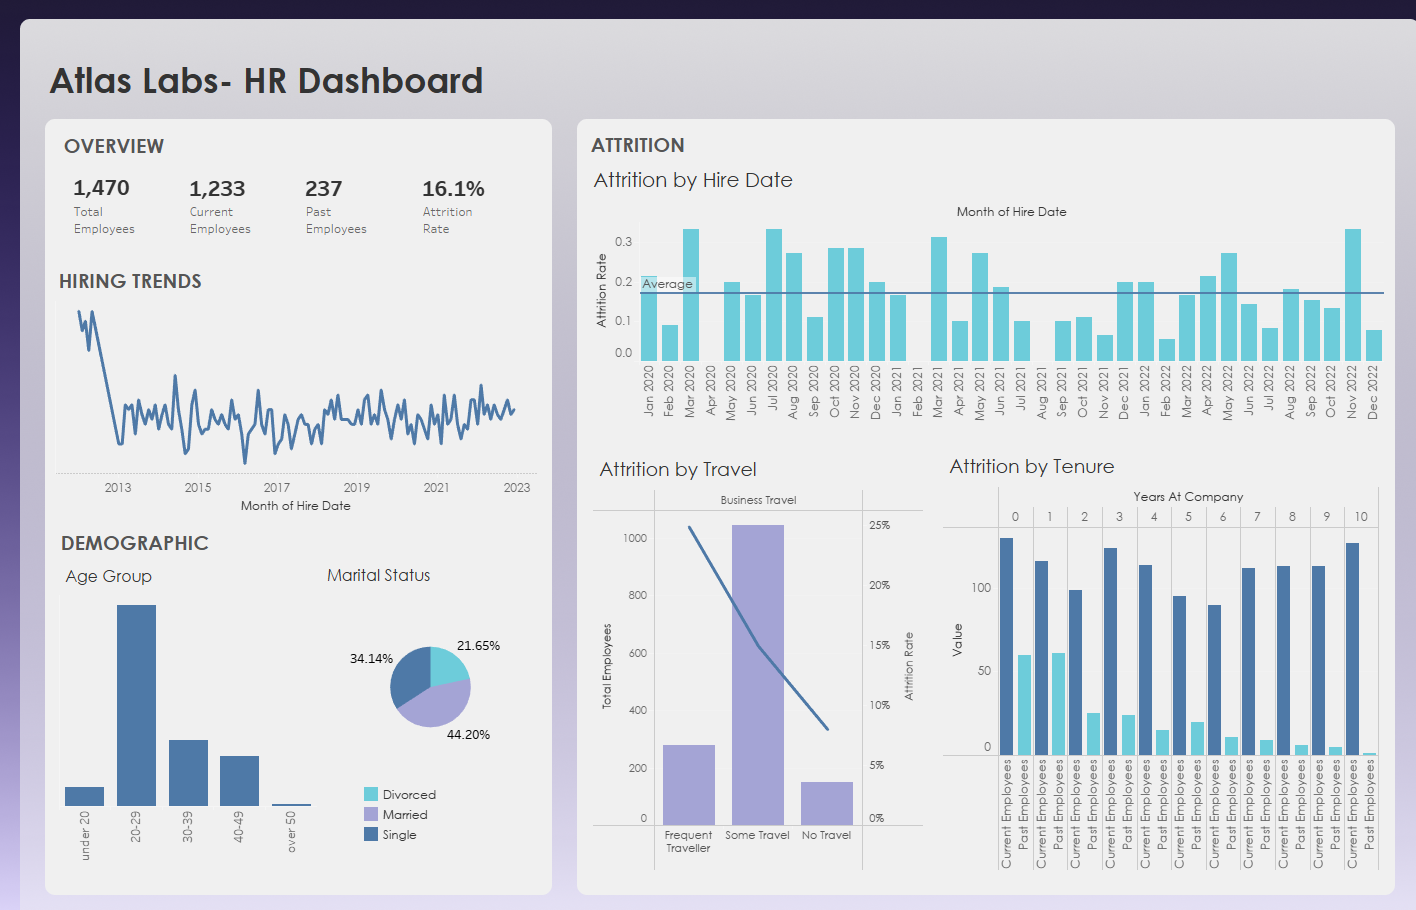

This screenshot's page, from the dashboard's own definition file:
{"tool":"tableau","page":{"name":"Dashboard","canvas":[1450,950],"ordinal":0},"visuals":[{"type":"image","param":"Image/Atlas Labs BG.png","box":[8,8,1434,934]},{"type":"text","box":[63,64,833,67]},{"type":"text","box":[605,148,125,30]},{"type":"text","box":[78,149,459,30]},{"type":"worksheet","title":"Attrition by Hire Date","mark":"Bar","rows":["Calculation_1915718740742516739"],"cols":["HireDate"],"box":[604,180,797,278]},{"type":"worksheet","title":"KPI- Total Employees","mark":"Automatic","box":[82,187,116.2,66]},{"type":"worksheet","title":"KPI- Current Employees","mark":"Automatic","box":[198.2,187,116.2,66]},{"type":"worksheet","title":"KPI- Past Employees","mark":"Automatic","box":[314.5,187,116.2,66]},{"type":"worksheet","title":"KPI- Attrition Rate","mark":"Automatic","box":[430.7,187,116.2,66]},{"type":"text","box":[84,209,116.2,58]},{"type":"text","box":[200.2,209,116.2,58]},{"type":"text","box":[316.5,209,116.2,58]},{"type":"text","box":[432.7,209,116.2,58]},{"type":"text","box":[73,281,493,35]},{"type":"worksheet","title":"Hiring over time","mark":"Automatic","rows":["Calculation_1915718740731666432"],"cols":["HireDate"],"box":[72,319,482,212]},{"type":"worksheet","title":"Attrition by Tenure","mark":"Automatic","cols":["YearsAtCompany"],"box":[960,467,437,422]},{"type":"worksheet","title":"Attrition by Travel","mark":"Bar","rows":["Calculation_1915718740731666432","Calculation_1915718740742516739"],"cols":["BusinessTravel"],"box":[610,470,331,419]},{"type":"text","box":[75,546,194,29]},{"type":"worksheet","title":"Marital Status","mark":"Pie","box":[338,577,219,221]},{"type":"worksheet","title":"Age Group","mark":"Automatic","rows":["Calculation_1915718740731666432"],"cols":["Calculation_1915718740811018246"],"box":[76,578,258,311]},{"type":"legend","title":"Marital Status","param":"[federated.0ekyefe1dwrso01g13jkv00ou20i].[none:MaritalStatus:nk]","box":[378,802,140,78]}]}

Visuals, with their boxes in screenshot pixels (x1, y1, x2, y2), scaled from the page's 1450x950 canvas onto the 1416x910 screenshot:
image: [8,8,1408,902]
text: [62,61,875,125]
text: [591,142,713,171]
text: [76,143,524,171]
"Attrition by Hire Date" worksheet (Bar marks): [590,172,1368,439]
"KPI- Total Employees" worksheet: [80,179,194,242]
"KPI- Current Employees" worksheet: [194,179,307,242]
"KPI- Past Employees" worksheet: [307,179,421,242]
"KPI- Attrition Rate" worksheet: [421,179,534,242]
text: [82,200,196,256]
text: [196,200,309,256]
text: [309,200,423,256]
text: [423,200,536,256]
text: [71,269,553,303]
"Hiring over time" worksheet: [70,306,541,509]
"Attrition by Tenure" worksheet: [937,447,1364,852]
"Attrition by Travel" worksheet (Bar marks): [596,450,919,852]
text: [73,523,263,551]
"Marital Status" worksheet (Pie marks): [330,553,544,764]
"Age Group" worksheet: [74,554,326,852]
"Marital Status" legend: [369,768,506,843]
